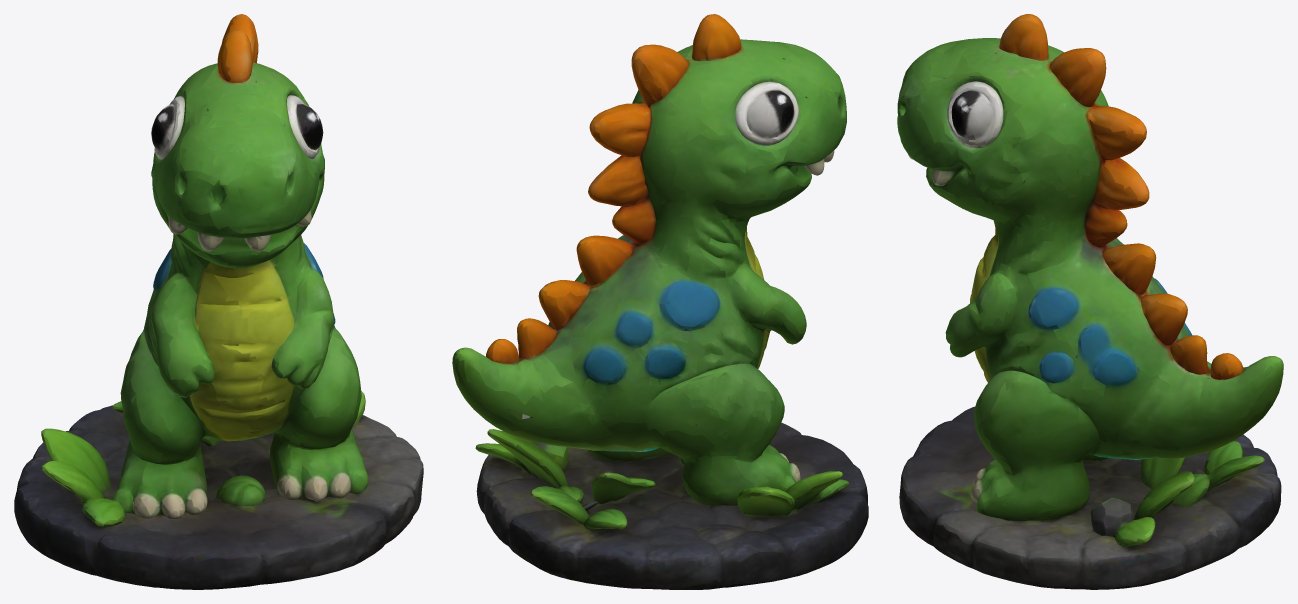
The model's file is step_00_raw.glb.
3 renders of one model, left to right at view 1: azimuth 30°, elevation 25°; view 2: azimuth 150°, elevation 25°; view 3: azimuth 270°, elevation 25°, orthographic. The views are drawn at different scales.
Visible parts, largest first — view 1: Statue_Shell_Max_Optimized; view 2: Statue_Shell_Max_Optimized; view 3: Statue_Shell_Max_Optimized.
Part boxes in pixels (<box>): Statue_Shell_Max_Optimized: <box>14,14,423,589</box>; Statue_Shell_Max_Optimized: <box>452,14,868,589</box>; Statue_Shell_Max_Optimized: <box>897,14,1283,589</box>.
Size of the model in its own units: 1.21 by 1.6 by 1.15.
1 material, 1 textured.
